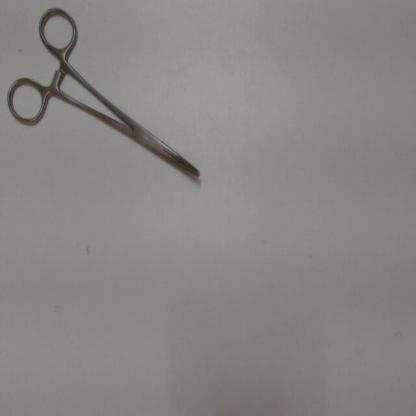Crile Artery Forceps: (3, 2, 209, 188)
